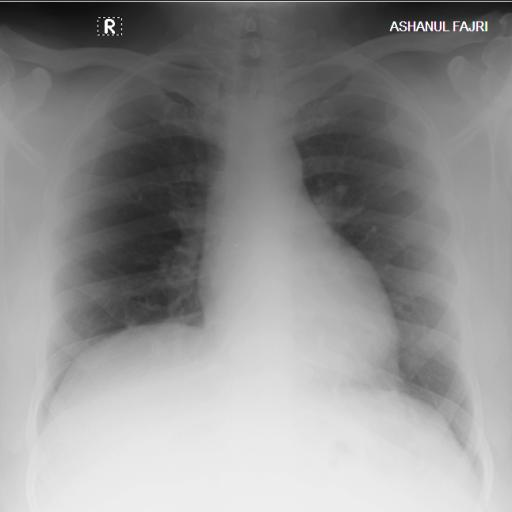kardiomegali: (15, 23, 494, 483)
